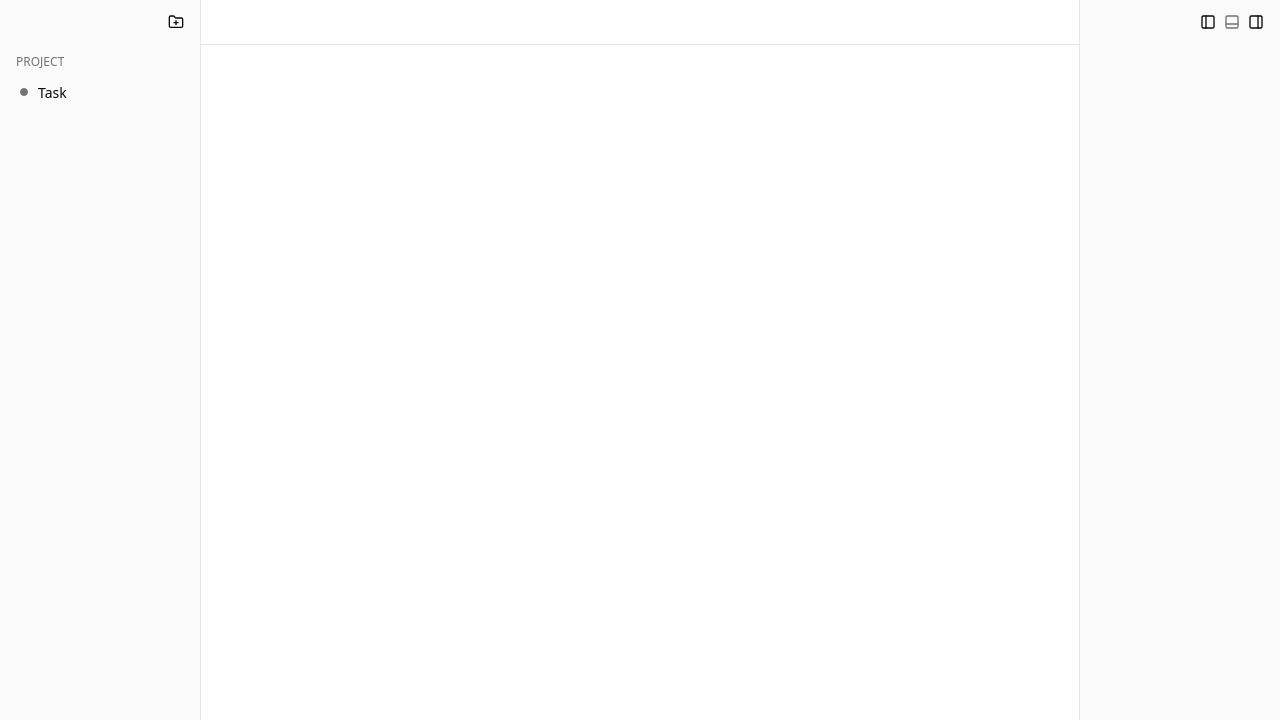
Test: A turn › shows a tool call's arguments and output literally
Click the button with class "select" at (100, 92), box [8,76,192,108]
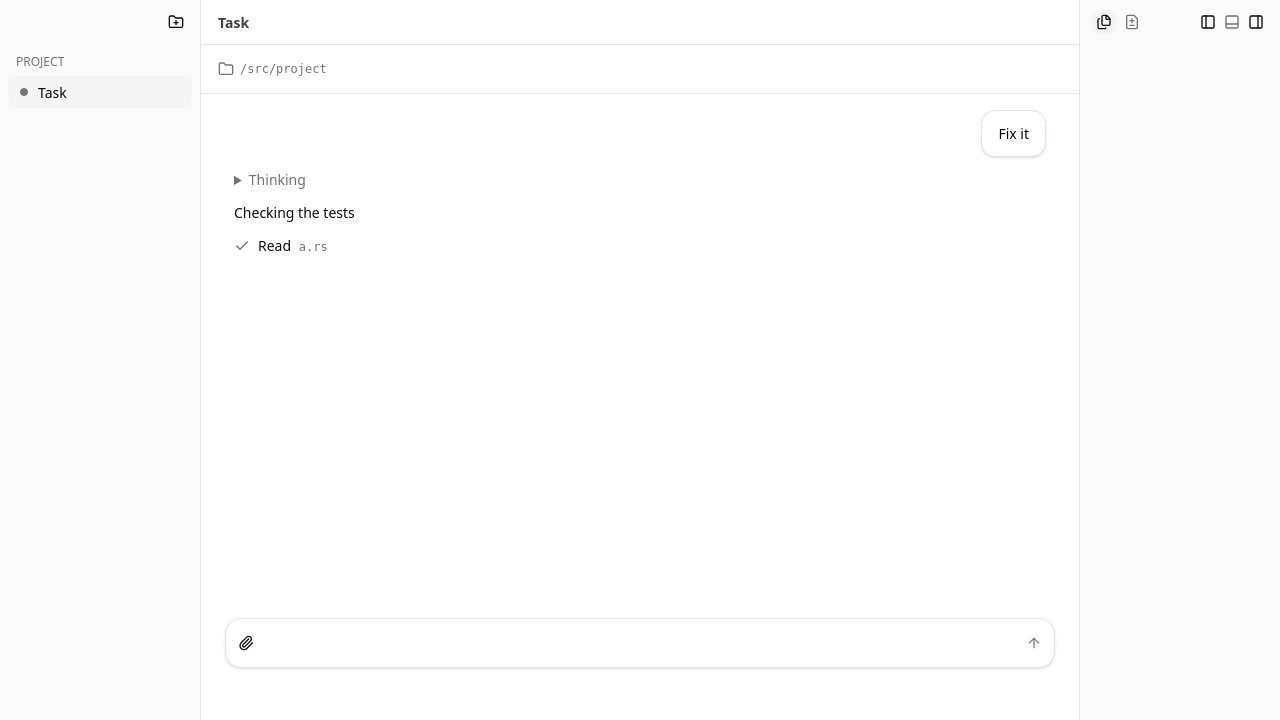
Result: the text "a.rs" is shown at [299,240,328,254]
Result: the picture named "Completed" is shown at [234,238,250,254]
